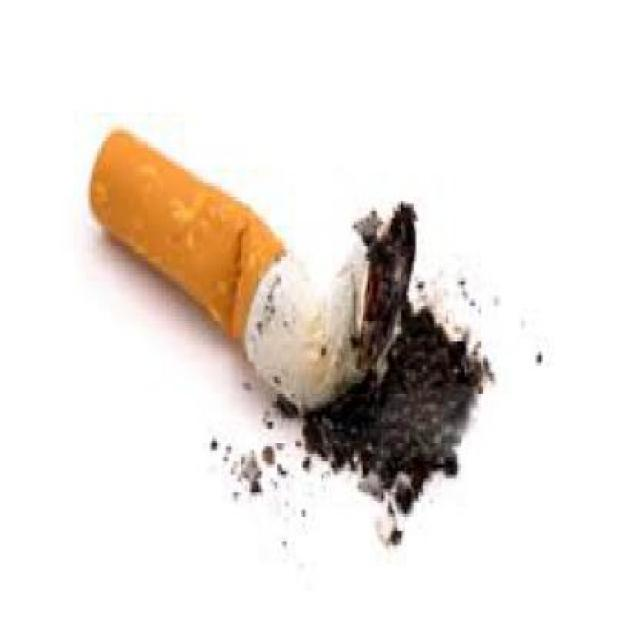cigarette: (92, 112, 434, 440)
